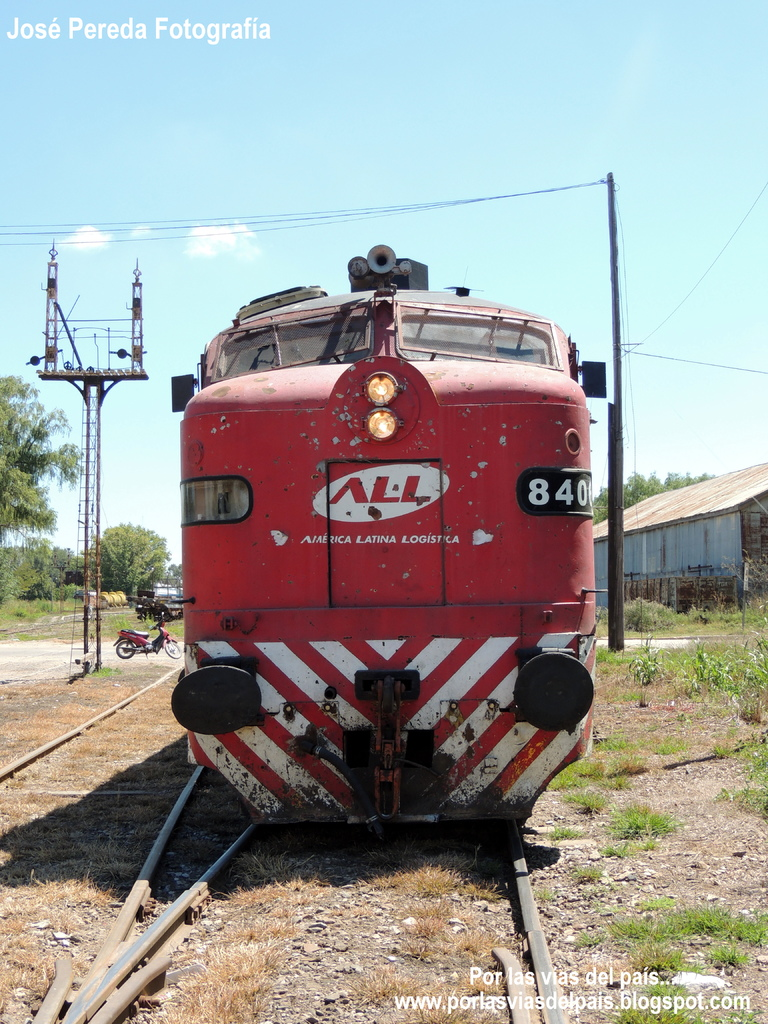train: (164, 244, 605, 826)
